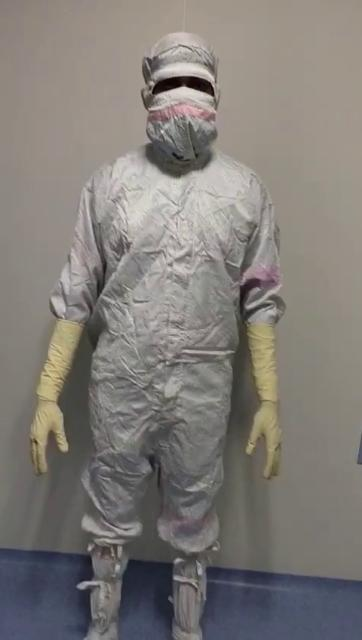gloves_fitted_securely: (226, 298, 298, 482), (24, 298, 86, 480)
headgear_secured: (136, 22, 230, 166)
zip_secured: (153, 158, 199, 434)
